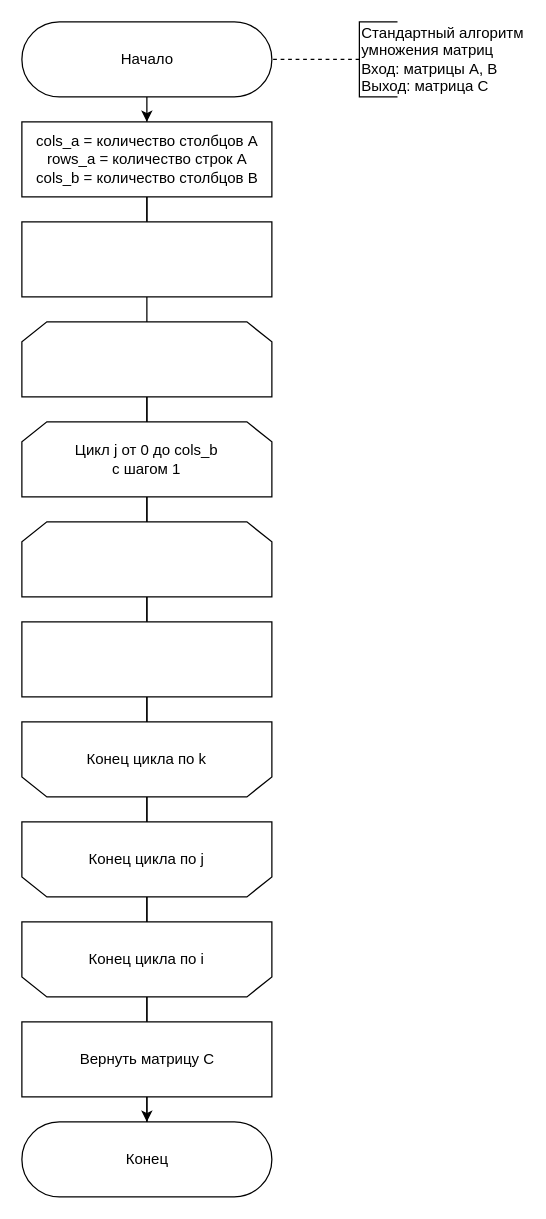
Some shapes in this 546 by 1219 pixel diagram are drawn without their labels. Here are the shapes that lost their labels. From the top down, the centre of each, then its label:
At point 146,259: "Создание матрицы C размером cols_b * rows_a и заполнение ее 0".
At point 146,359: "Цикл i от 0 до rows_a с шагом 1".
At point 146,559: "Цикл k от 0 до cols_a с шагом 1".
At point 146,659: "C[i][j] += A[i][k] * B[k][j]".
